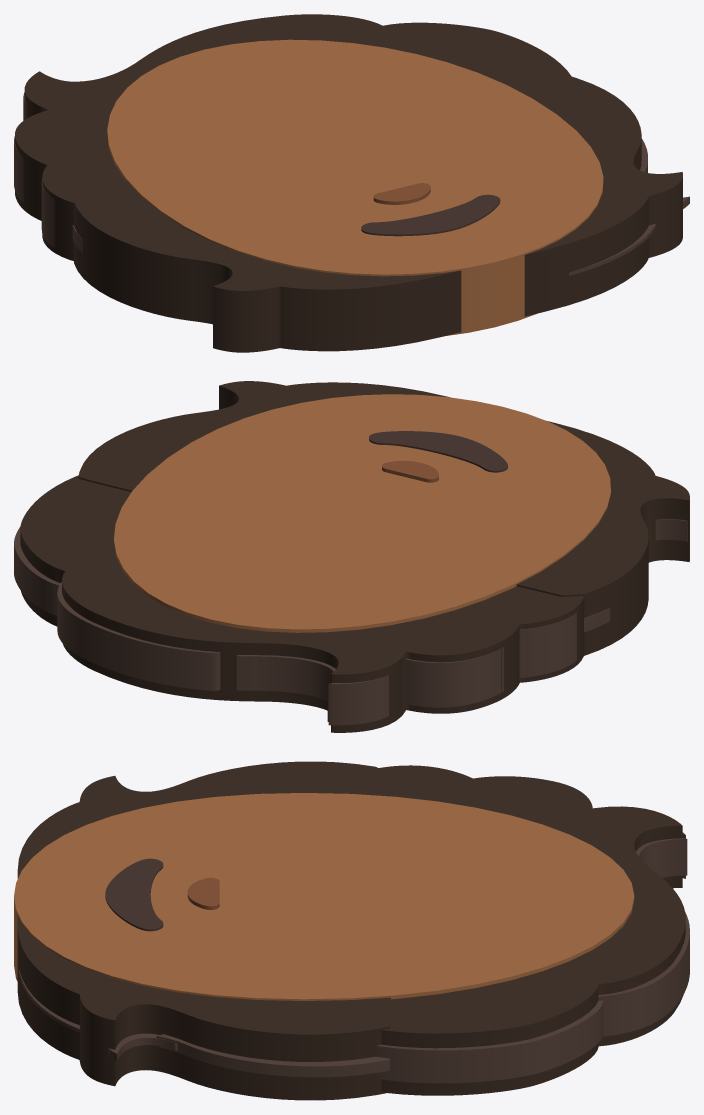
File: emoji_u1f9d1_1f3fe.glb
3 renders of one model, top to bottom at view 1: azimuth 30°, elevation 25°; view 2: azimuth 150°, elevation 25°; view 3: azimuth 270°, elevation 25°, orthographic. The views are drawn at different scales.
Parts seen in each view (by area): view 1: emoji_u1f9d1_1f3fe; view 2: emoji_u1f9d1_1f3fe; view 3: emoji_u1f9d1_1f3fe.
Part boxes in pixels (x1,y1,x2,y2): emoji_u1f9d1_1f3fe: (14, 14, 689, 352); emoji_u1f9d1_1f3fe: (14, 381, 689, 732); emoji_u1f9d1_1f3fe: (14, 761, 689, 1100).
Bounding box in the file's own units: 0.0325 × 0.0042 × 0.0335.
